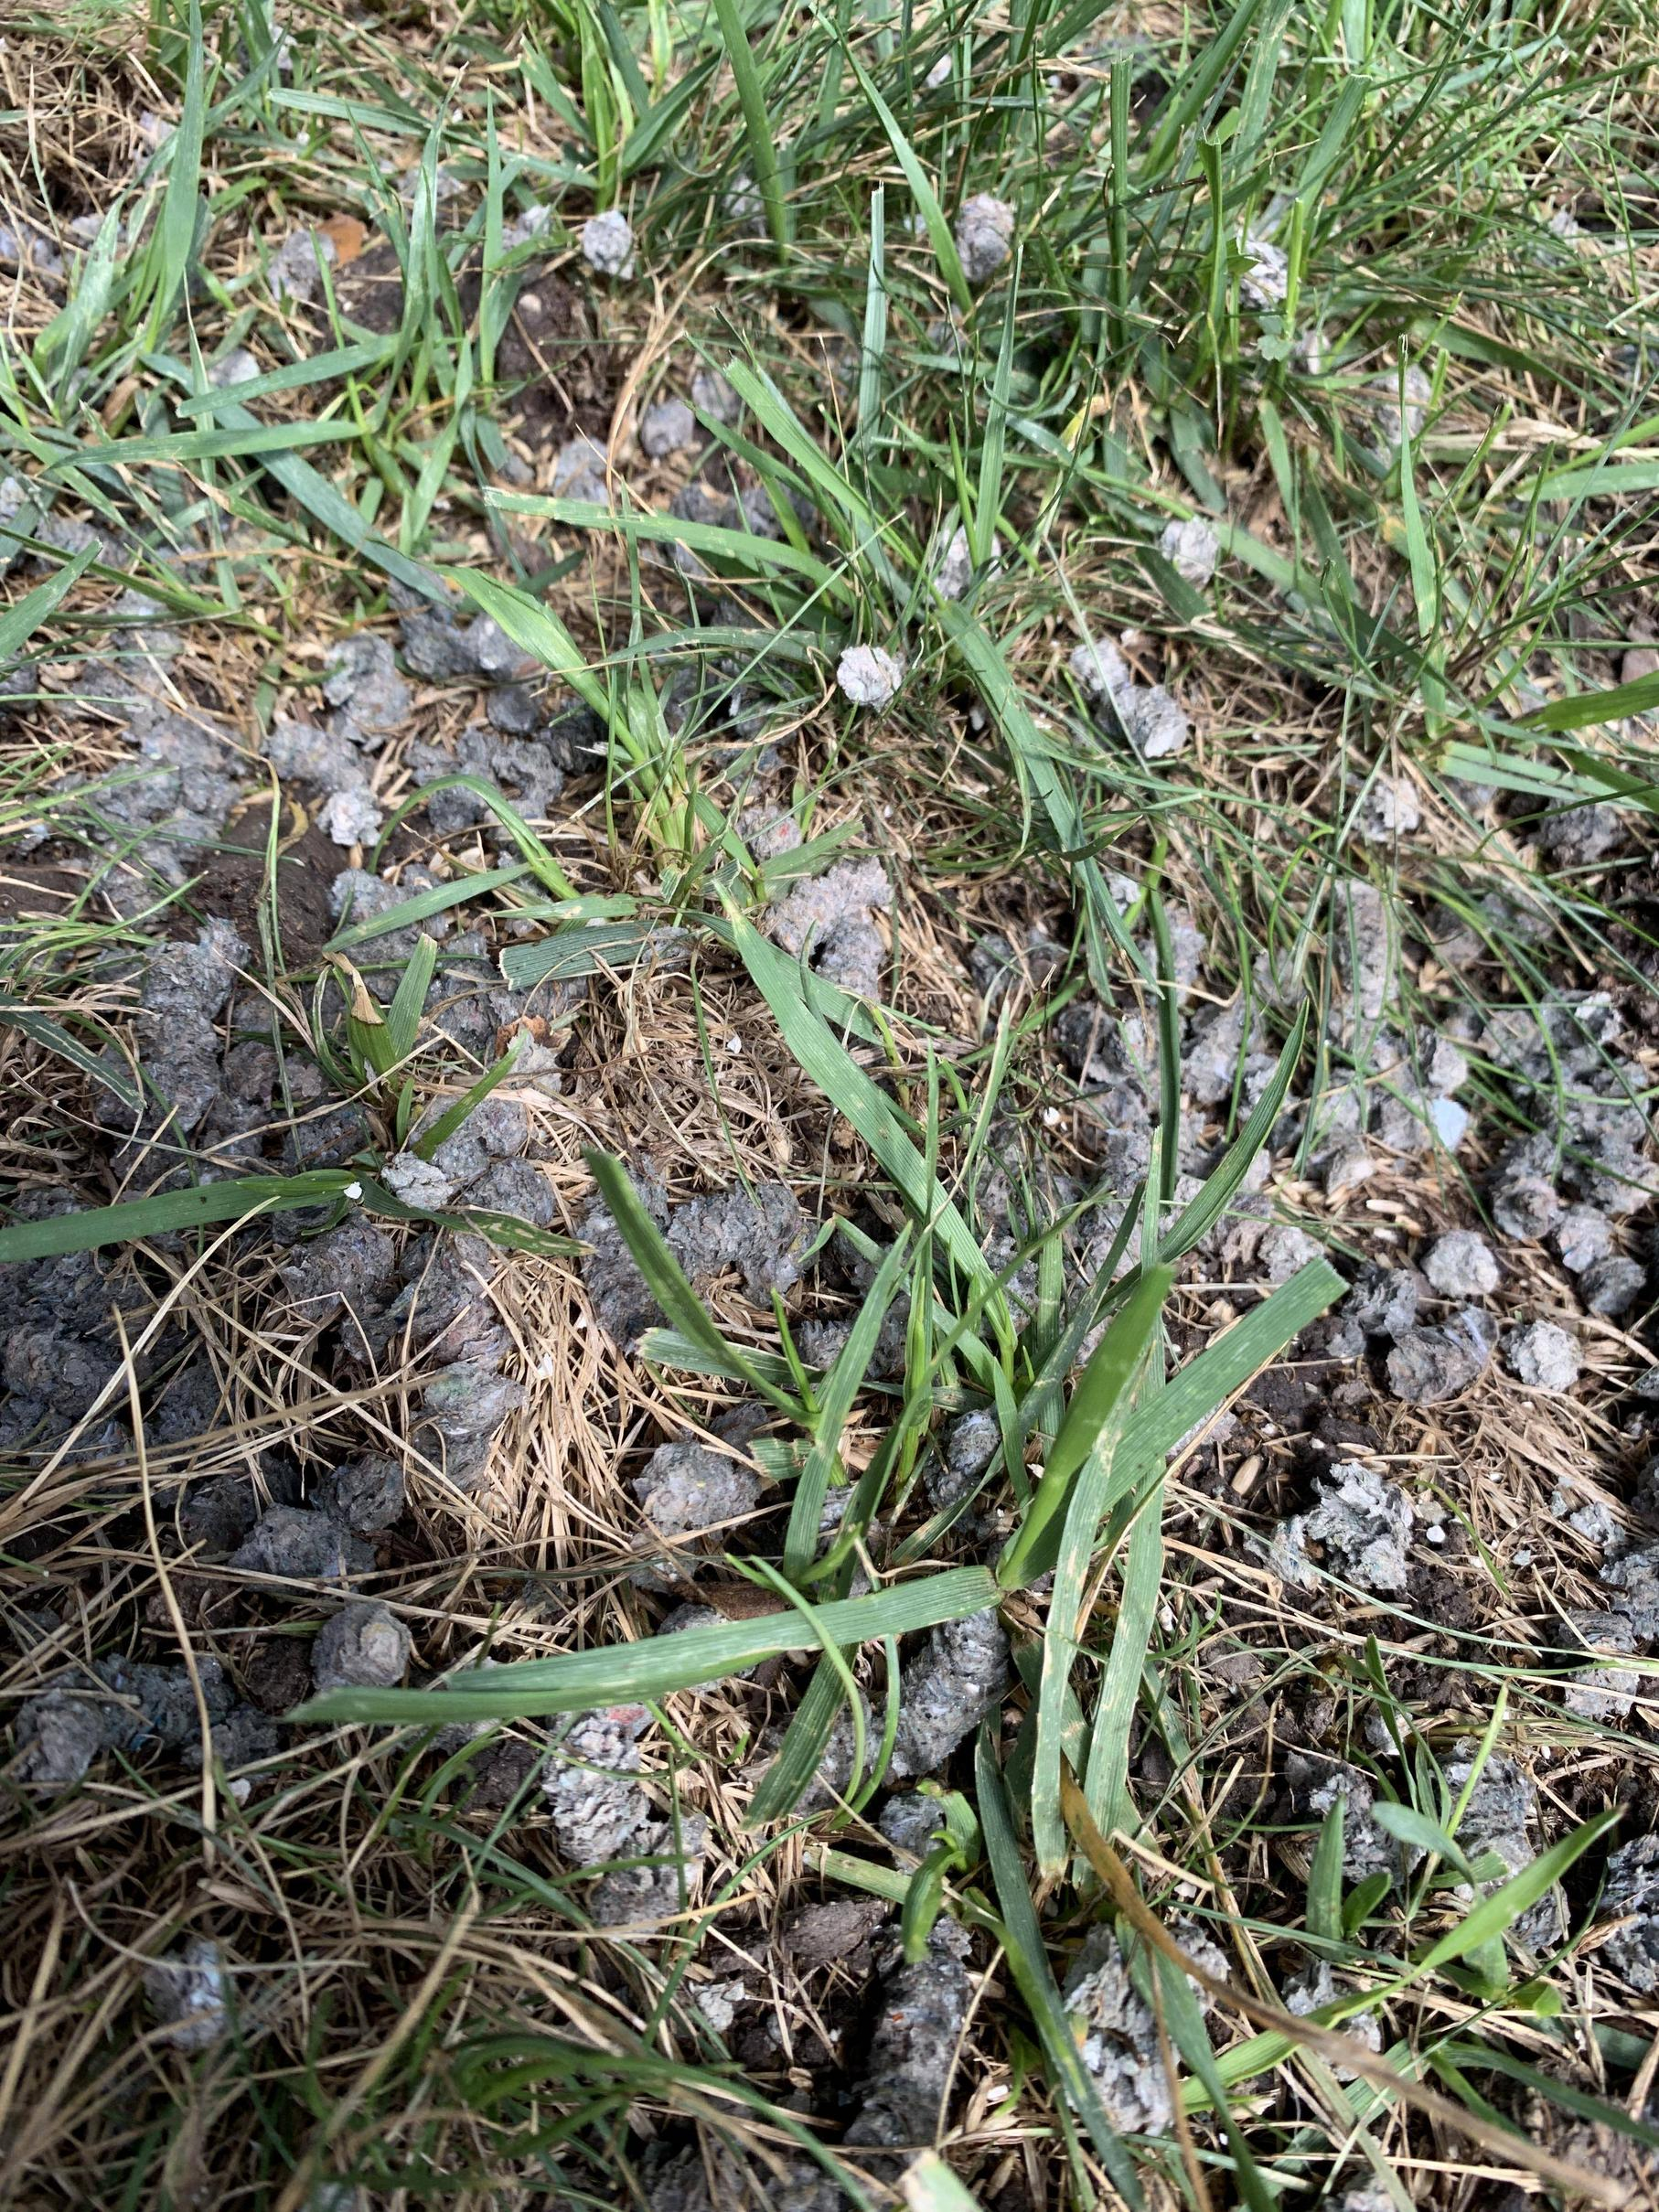crabgrass: (549, 954, 1371, 1905), (227, 237, 1058, 883), (1246, 348, 1659, 829)
